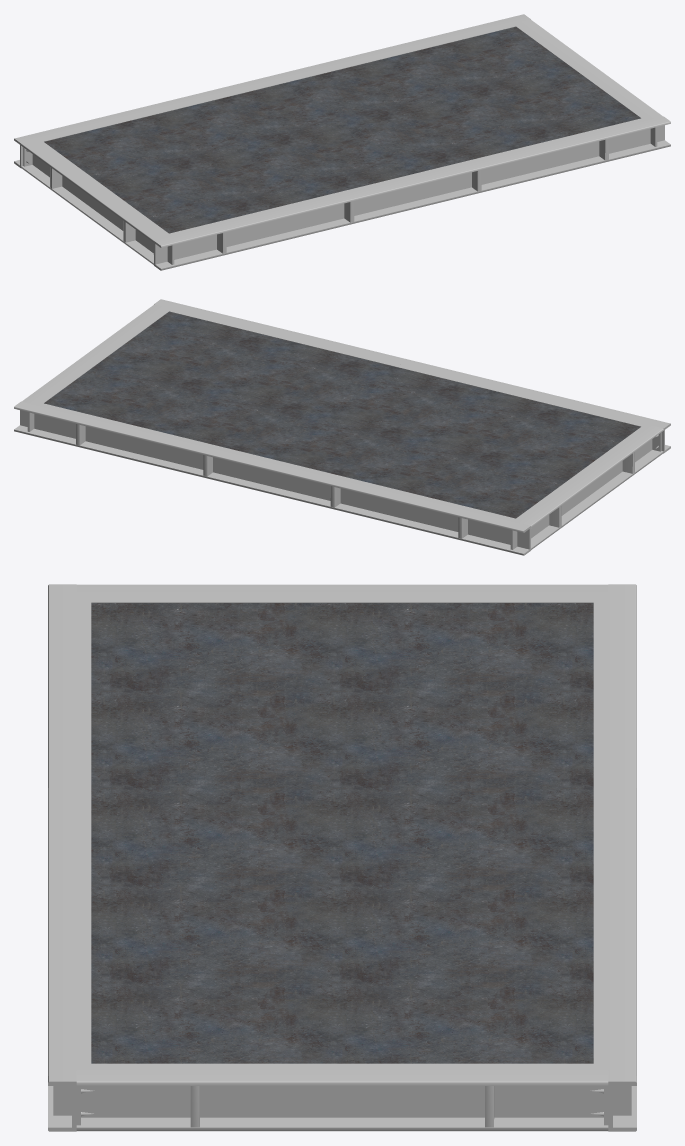
Rendered from SM_Platform_Large.fbx.
The picture shows the model from 3 angles, top to bottom: view 1: azimuth 30°, elevation 25°; view 2: azimuth 150°, elevation 25°; view 3: azimuth 270°, elevation 25°; orthographic projection. The views are drawn at different scales.
Visible parts, largest first — view 1: SM_Platform_Large_LOD0; view 2: SM_Platform_Large_LOD0; view 3: SM_Platform_Large_LOD0.
Boxes of the visible parts, x1,y1,x2,y2 form: SM_Platform_Large_LOD0: [14, 14, 670, 270]; SM_Platform_Large_LOD0: [14, 299, 670, 555]; SM_Platform_Large_LOD0: [48, 584, 636, 1131].
Size of the model in its own units: 512 by 256 by 24.
